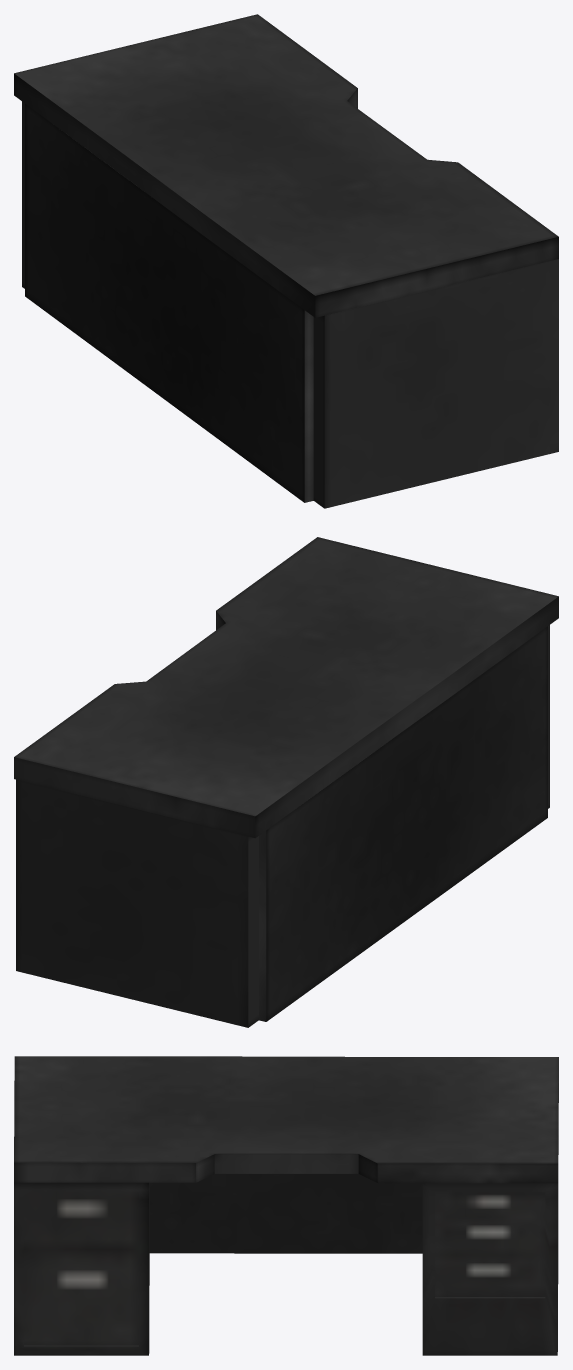
Rendered from MESH_MESA_GAVETA_02.fbx.
The picture shows the model from 3 angles, top to bottom: view 1: azimuth 30°, elevation 25°; view 2: azimuth 150°, elevation 25°; view 3: azimuth 270°, elevation 25°; orthographic projection. The views are drawn at different scales.
Parts seen in each view (by area): view 1: MESH_MESA_GAVETA_02; view 2: MESH_MESA_GAVETA_02; view 3: MESH_MESA_GAVETA_02.
Part boxes in pixels (x1,y1,x2,y2): MESH_MESA_GAVETA_02: (14,14,558,508); MESH_MESA_GAVETA_02: (14,537,558,1027); MESH_MESA_GAVETA_02: (14,1056,558,1355).
Size of the model in its own units: 0.7 by 0.5859 by 1.5.
